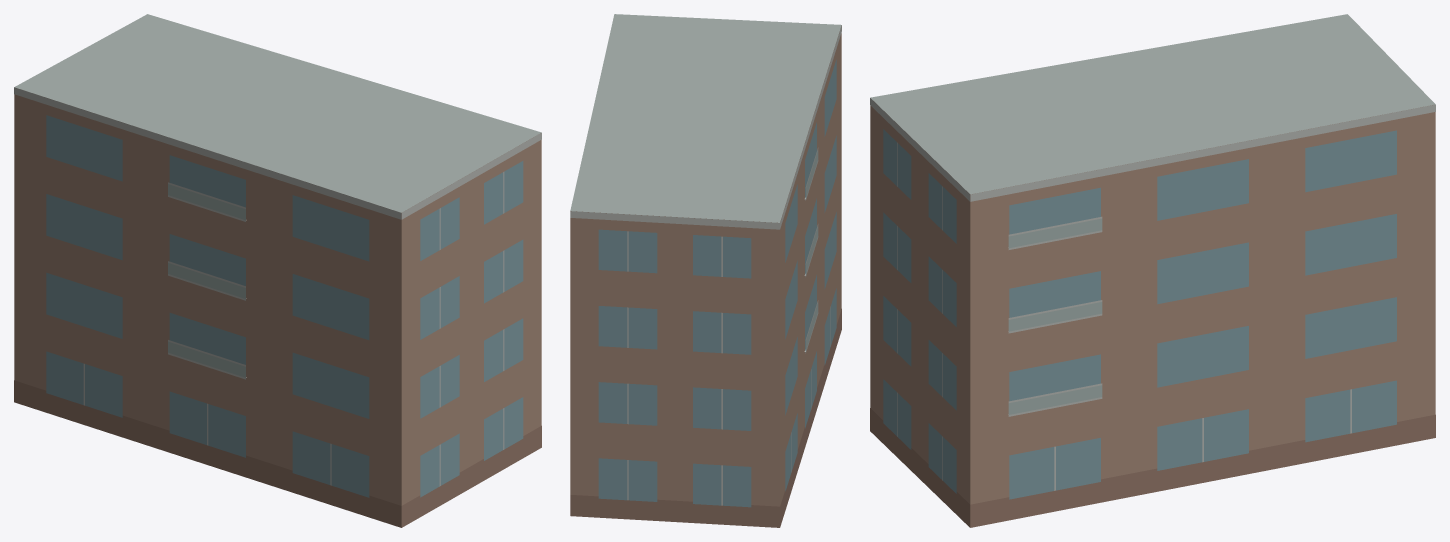
File: survey-upis-32914252.glb
3 renders of one model, left to right at view 1: azimuth 30°, elevation 25°; view 2: azimuth 150°, elevation 25°; view 3: azimuth 270°, elevation 25°, orthographic. The views are drawn at different scales.
Parts seen in each view (by area): view 1: survey-upis-32914252.tmp; view 2: survey-upis-32914252.tmp; view 3: survey-upis-32914252.tmp.
Boxes of the visible parts, x1=… form: survey-upis-32914252.tmp: x1=14, y1=14, x2=541, y2=527; survey-upis-32914252.tmp: x1=570, y1=14, x2=841, y2=527; survey-upis-32914252.tmp: x1=870, y1=14, x2=1435, y2=527.
Bounding box in the file's own units: 12.72 × 10.95 × 16.85.
